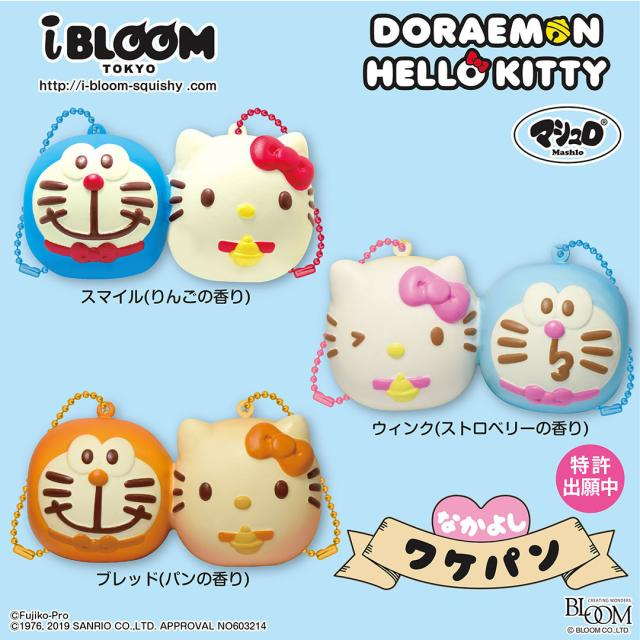doraemon: (461, 244, 639, 413), (21, 122, 188, 286)
